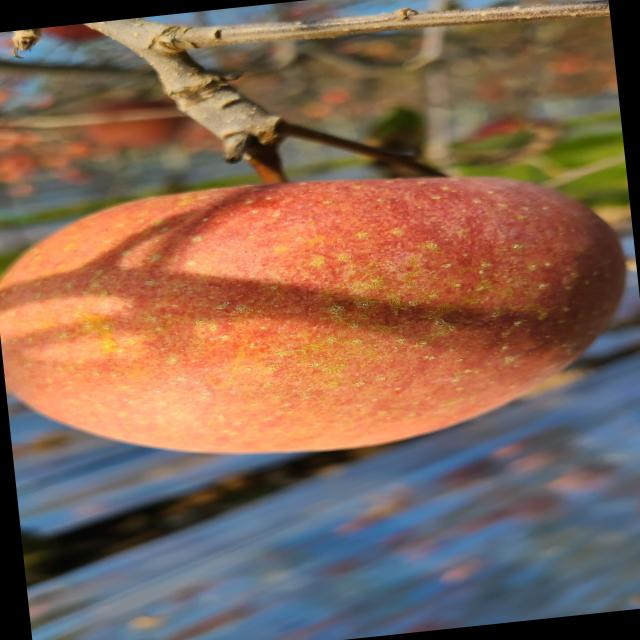fresh: (1, 135, 640, 496)
